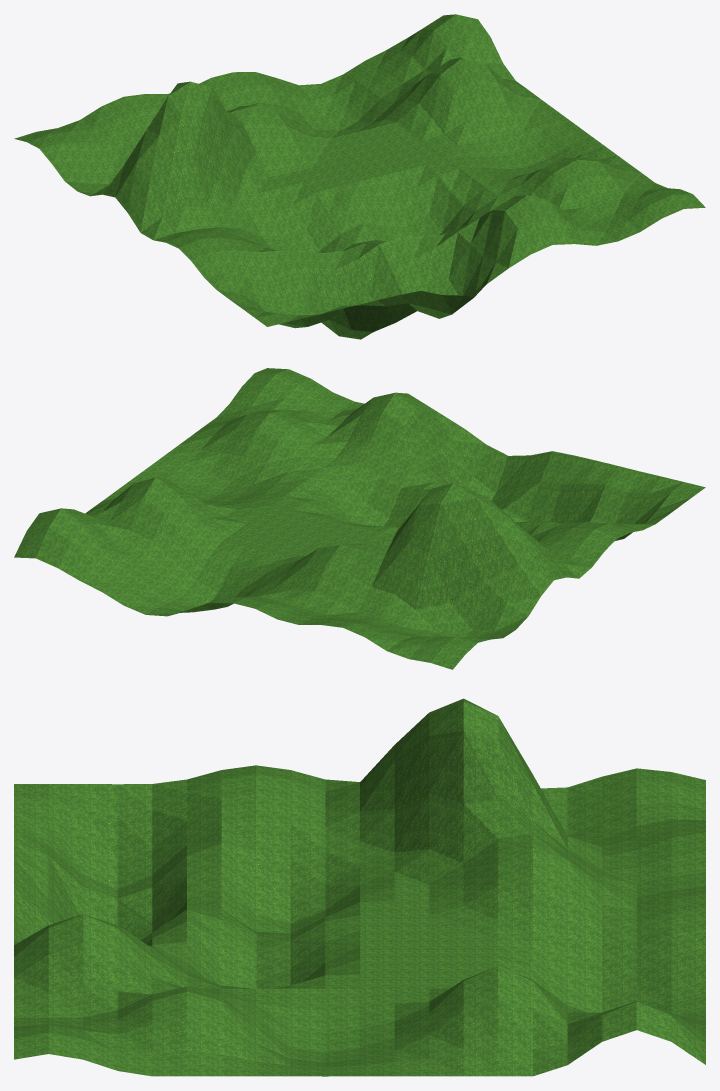
File: TerrainSample.fbx
The picture shows the model from 3 angles, top to bottom: view 1: azimuth 30°, elevation 25°; view 2: azimuth 150°, elevation 25°; view 3: azimuth 270°, elevation 25°; orthographic projection. The views are drawn at different scales.
Visible parts, largest first — view 1: Terrain; view 2: Terrain; view 3: Terrain.
Boxes of the visible parts, x1,y1,x2,y2 form: Terrain: [14, 14, 705, 339]; Terrain: [14, 368, 705, 669]; Terrain: [14, 698, 705, 1076].
Bounding box in the file's own units: 762 × 292 × 762.
